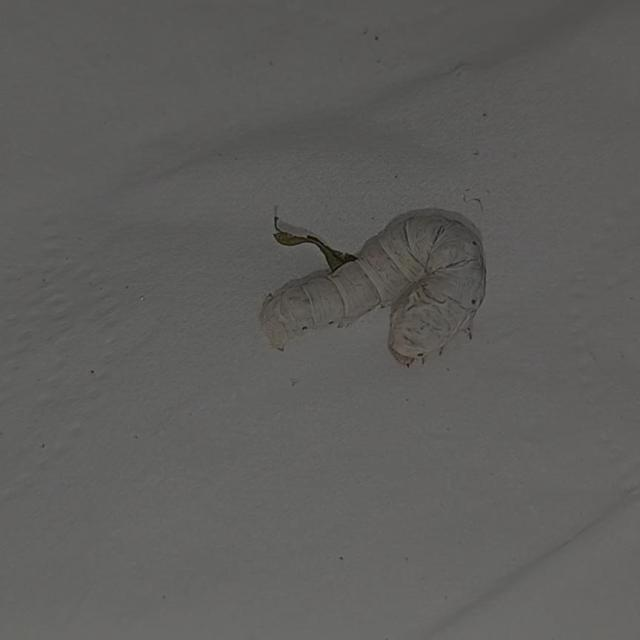Healthy: (250, 195, 492, 370)
